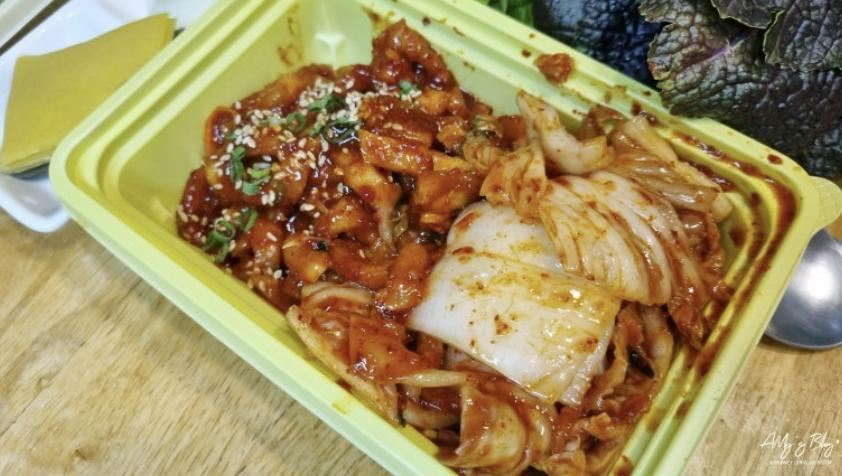Lunch Box: (50, 0, 841, 475), (0, 0, 215, 231)
